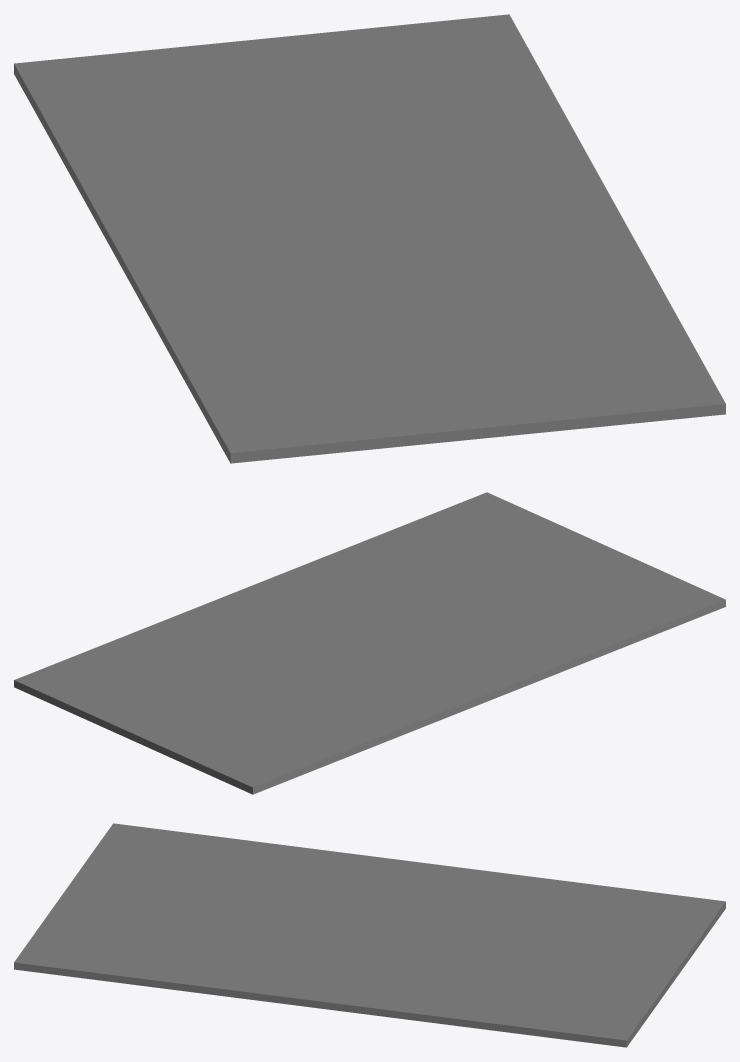
The model's file is Basketball Court.fbx.
3 renders of one model, top to bottom at view 1: azimuth 30°, elevation 25°; view 2: azimuth 150°, elevation 25°; view 3: azimuth 270°, elevation 25°, orthographic. The views are drawn at different scales.
Parts seen in each view (by area): view 1: Basketball Court; view 2: Basketball Court; view 3: Basketball Court.
Part boxes in pixels (x1,y1,x2,y2): Basketball Court: (14,14,725,463); Basketball Court: (14,492,725,794); Basketball Court: (14,823,725,1047).
Bounding box in the file's own units: 2001 × 2771 × 30.36.
